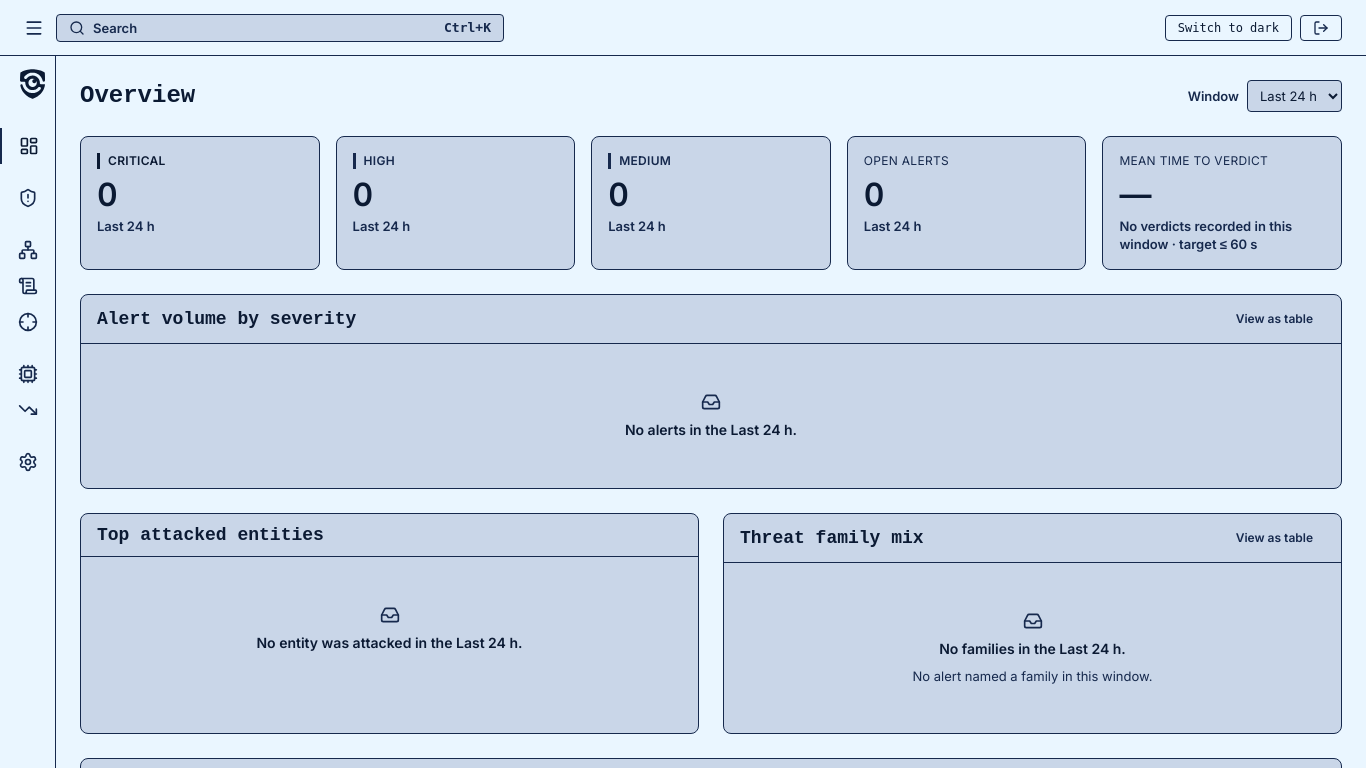
Test: routing and shell › navigates to the hunt console, which is built now
This screenshot has width=1366, height=768.
What coordinates should you click on to do the following:
click the link named "Hunt"
I would click on:
 (38, 326)
Its box is [18,312,58,340].
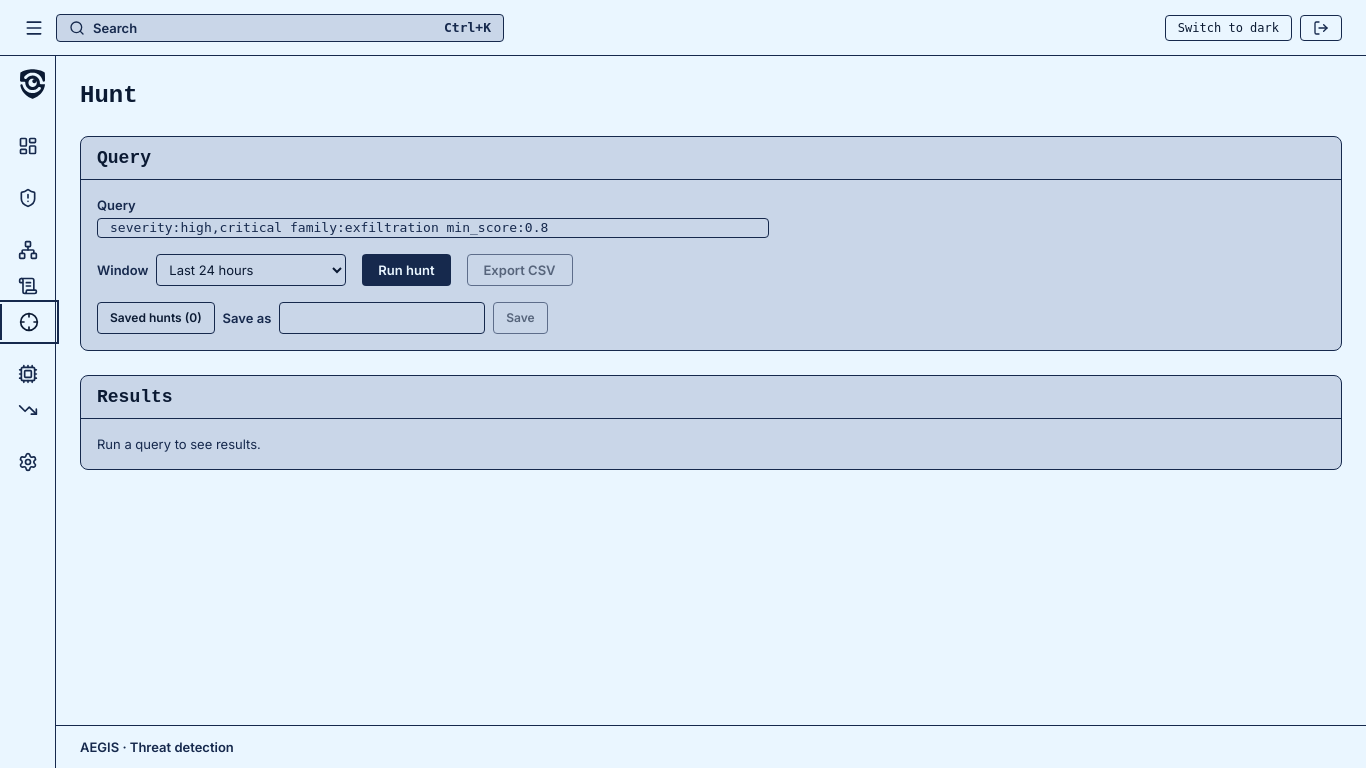
Check: the heading "Hunt" is shown, box [80,82,138,109]
Check: the text "Run a query to see results." is shown, box [97,436,261,452]
